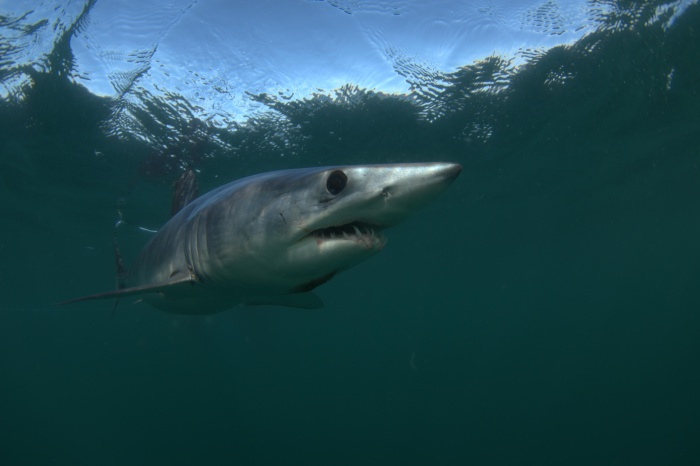Mako: (43, 121, 495, 340)
